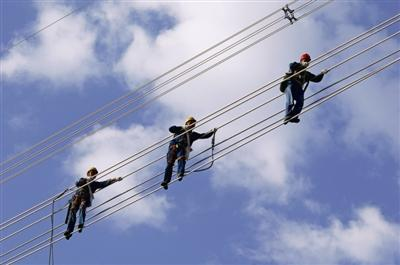boots: (64, 230, 72, 239), (290, 116, 300, 123), (161, 181, 168, 189), (283, 118, 290, 125), (177, 173, 183, 181), (78, 223, 83, 231)
hard-hat: (185, 115, 196, 127), (87, 167, 98, 176), (300, 53, 311, 61)
person: (64, 166, 123, 240), (160, 115, 217, 189), (280, 53, 328, 124)
ppe-suit: (161, 124, 215, 186), (64, 176, 117, 234), (279, 61, 324, 123)
